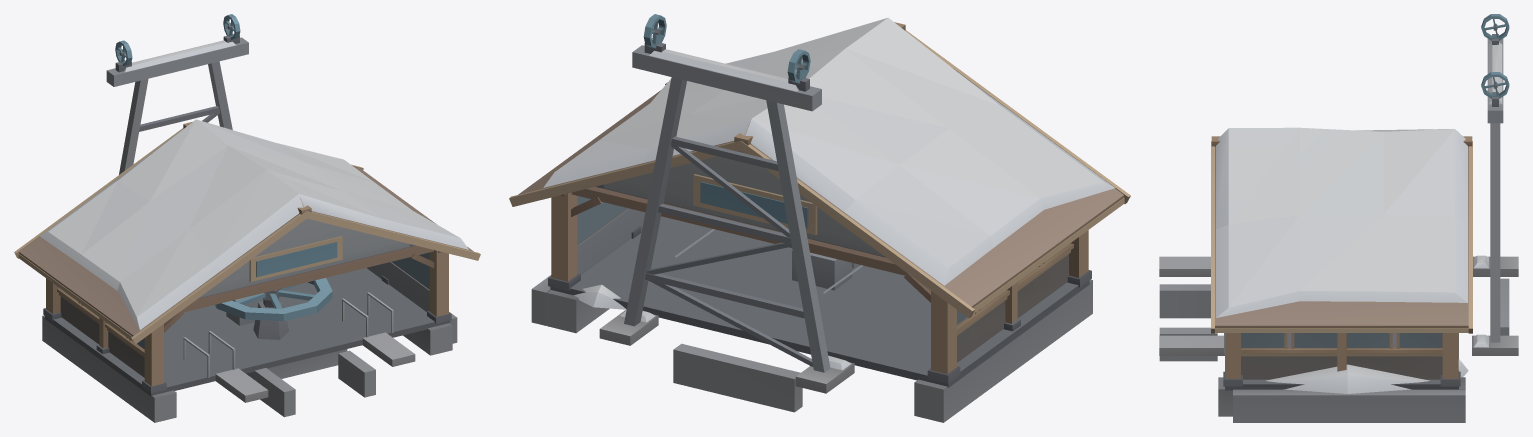
3 renders of one model, left to right at view 1: azimuth 30°, elevation 25°; view 2: azimuth 150°, elevation 25°; view 3: azimuth 270°, elevation 25°, orthographic. The views are drawn at different scales.
Bounding box in the file's own units: 15.15 × 11.04 × 12.3.
